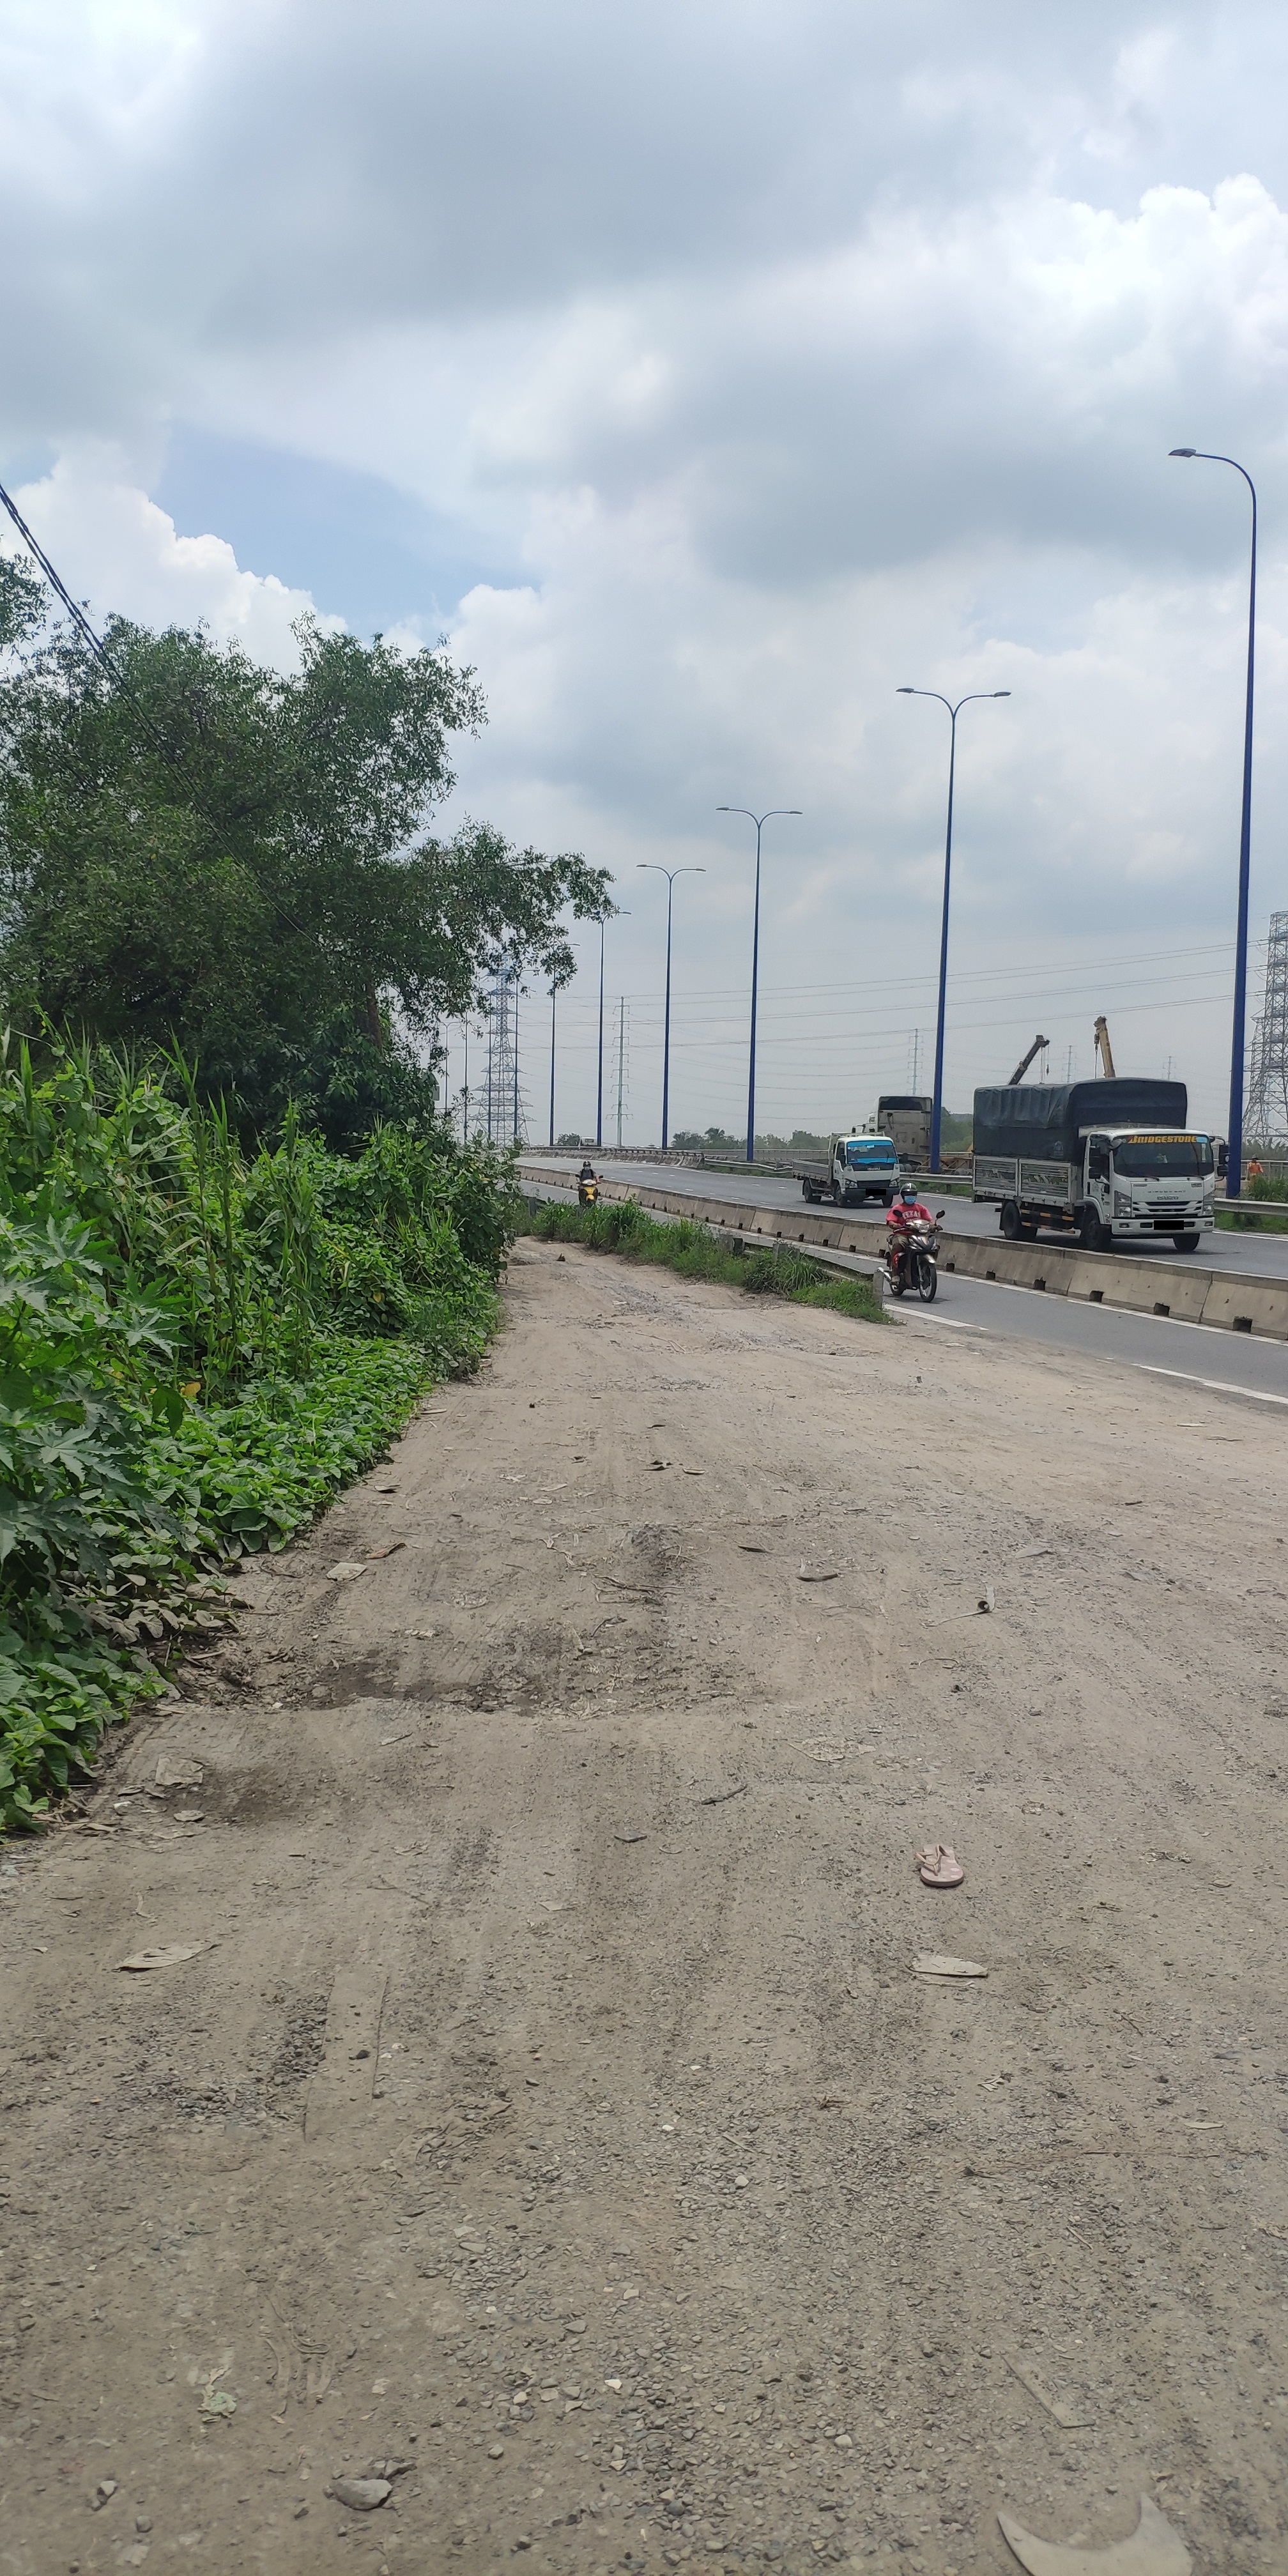hole: (177, 1625, 821, 1728), (100, 1748, 325, 1845), (465, 1368, 721, 1400), (816, 1370, 958, 1401), (782, 1332, 884, 1362), (509, 1253, 545, 1268)
